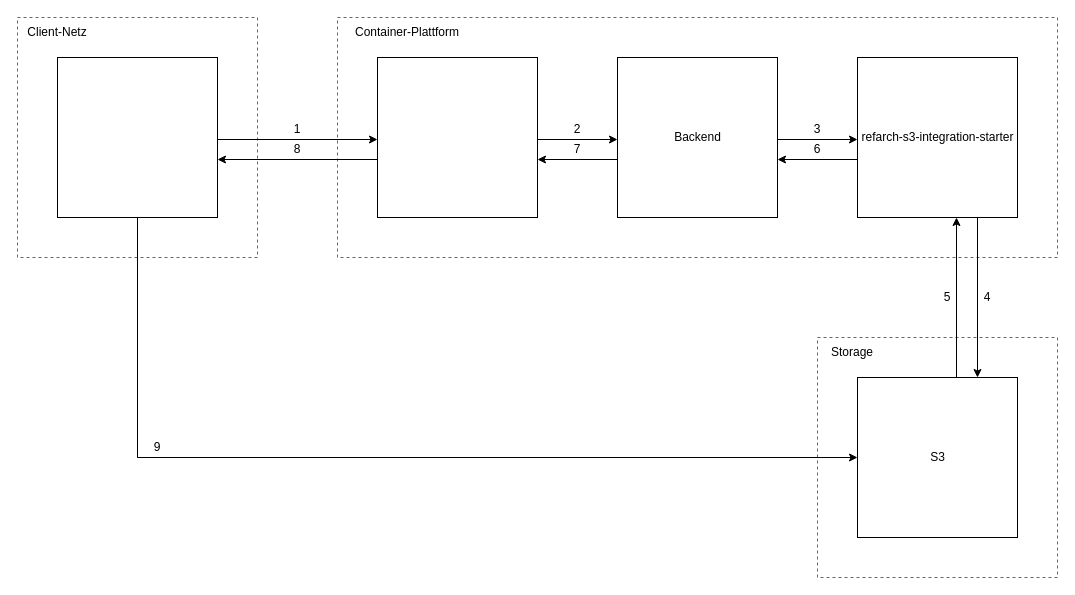
This 1075x595 diagram has some shape labels left out. Each missing label, with the centre of its shape:
"API-Gateway" goes at pixel 457 137.
"GUI" goes at pixel 137 137.
